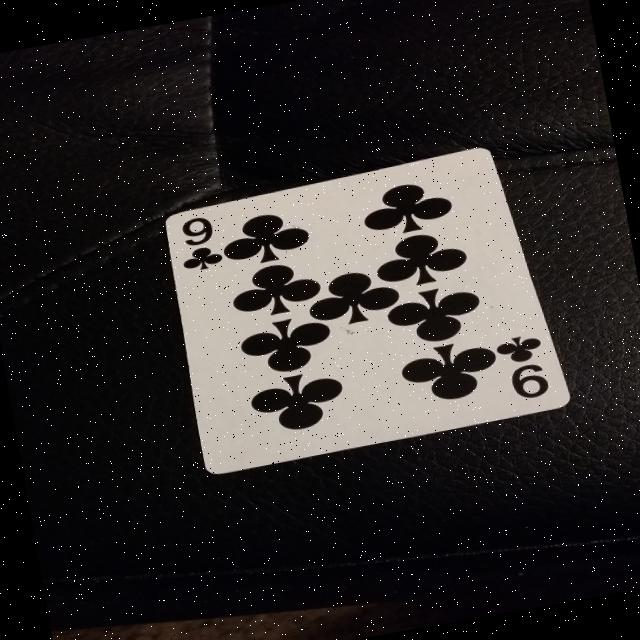9c: (486, 322, 565, 409), (160, 206, 232, 280)
